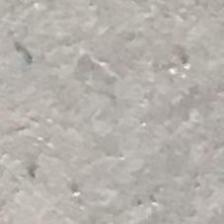Non_Crack: (22, 82, 222, 212)
